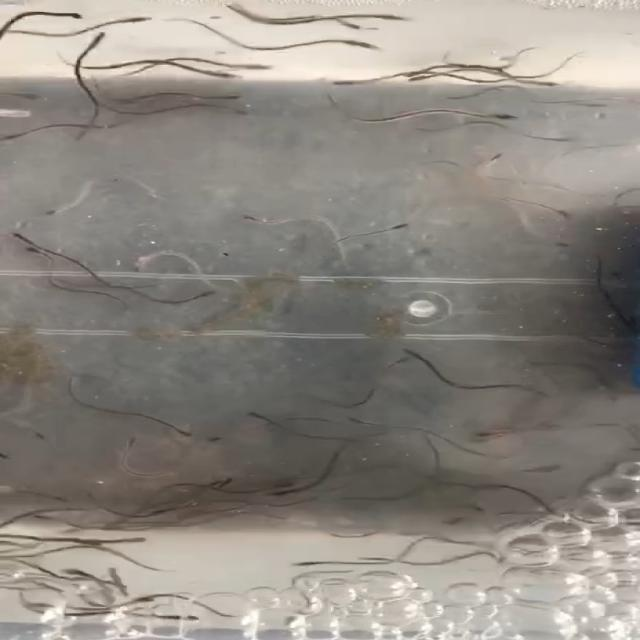active_glass_eel: (469, 424, 522, 444), (288, 556, 339, 576), (36, 198, 76, 223), (32, 490, 83, 508), (110, 435, 163, 451), (466, 151, 516, 167), (220, 83, 258, 104), (243, 61, 280, 82), (387, 215, 418, 240), (246, 490, 316, 501), (268, 607, 306, 627), (390, 339, 434, 356), (67, 537, 106, 556), (166, 608, 207, 626), (193, 429, 225, 452), (144, 502, 189, 518), (586, 502, 633, 517), (342, 19, 386, 35), (58, 563, 95, 582), (130, 10, 165, 30), (416, 549, 466, 563), (346, 40, 394, 54), (482, 110, 519, 128), (116, 534, 152, 552), (240, 407, 278, 424), (130, 592, 164, 610), (380, 352, 418, 368), (341, 414, 377, 430), (326, 73, 364, 88), (316, 92, 349, 109), (528, 79, 579, 90), (0, 228, 30, 246), (76, 29, 121, 41), (536, 462, 568, 478), (400, 74, 435, 88), (550, 208, 590, 220), (277, 477, 307, 493), (241, 212, 270, 228), (210, 72, 247, 84), (124, 260, 155, 274), (552, 235, 576, 253), (57, 9, 87, 23), (550, 132, 574, 148), (386, 11, 411, 25), (210, 476, 238, 488), (20, 246, 45, 258), (30, 430, 48, 443)
